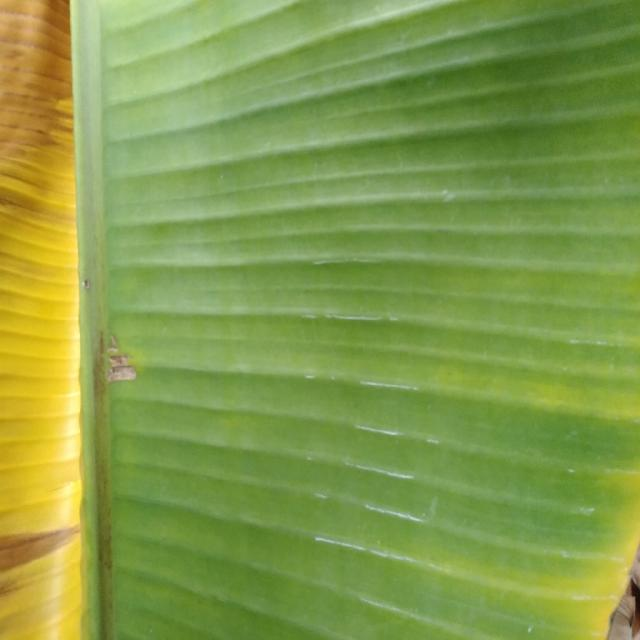Cordana: (333, 189, 640, 640), (0, 0, 104, 639), (92, 327, 162, 419)
